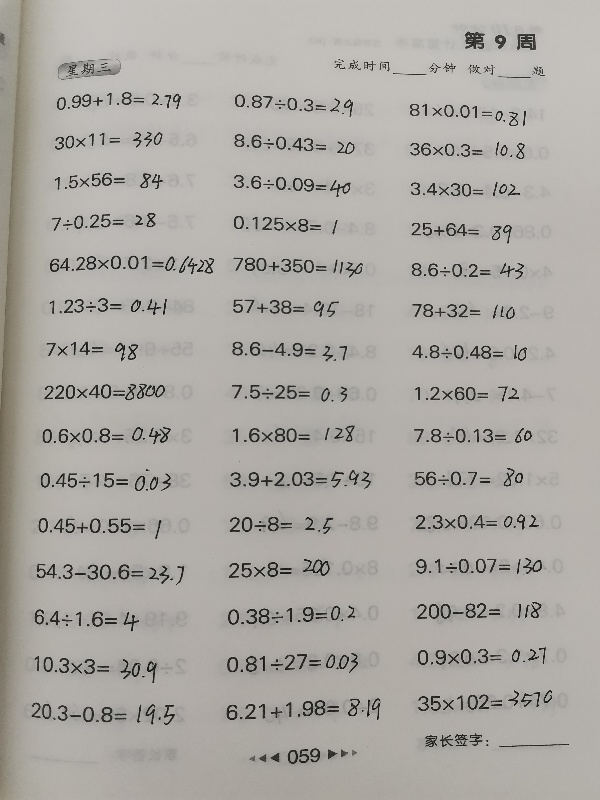equation: (223, 695, 384, 724), (28, 699, 178, 728), (45, 251, 218, 276), (32, 560, 187, 587), (36, 467, 174, 497), (223, 649, 362, 677), (30, 653, 160, 682), (226, 466, 374, 491), (414, 688, 556, 713), (52, 87, 184, 113), (229, 253, 366, 278), (49, 166, 167, 195), (39, 423, 175, 448), (34, 513, 164, 539), (413, 644, 549, 668), (412, 554, 546, 578), (230, 424, 364, 448), (41, 380, 169, 405), (230, 91, 356, 116), (411, 464, 527, 491), (45, 293, 170, 318), (229, 173, 354, 198), (405, 101, 530, 126), (223, 603, 358, 626), (413, 599, 546, 622), (407, 139, 529, 164), (413, 510, 543, 533), (409, 341, 531, 365), (228, 338, 350, 362), (407, 219, 515, 246), (30, 607, 142, 633), (408, 259, 528, 283), (230, 133, 358, 155), (228, 381, 350, 404), (51, 129, 166, 153), (411, 425, 536, 447), (229, 296, 342, 320), (225, 555, 333, 580), (47, 209, 159, 233), (226, 513, 336, 537), (42, 337, 141, 363), (406, 178, 523, 200), (412, 383, 523, 406), (408, 299, 518, 322), (229, 213, 341, 235)
